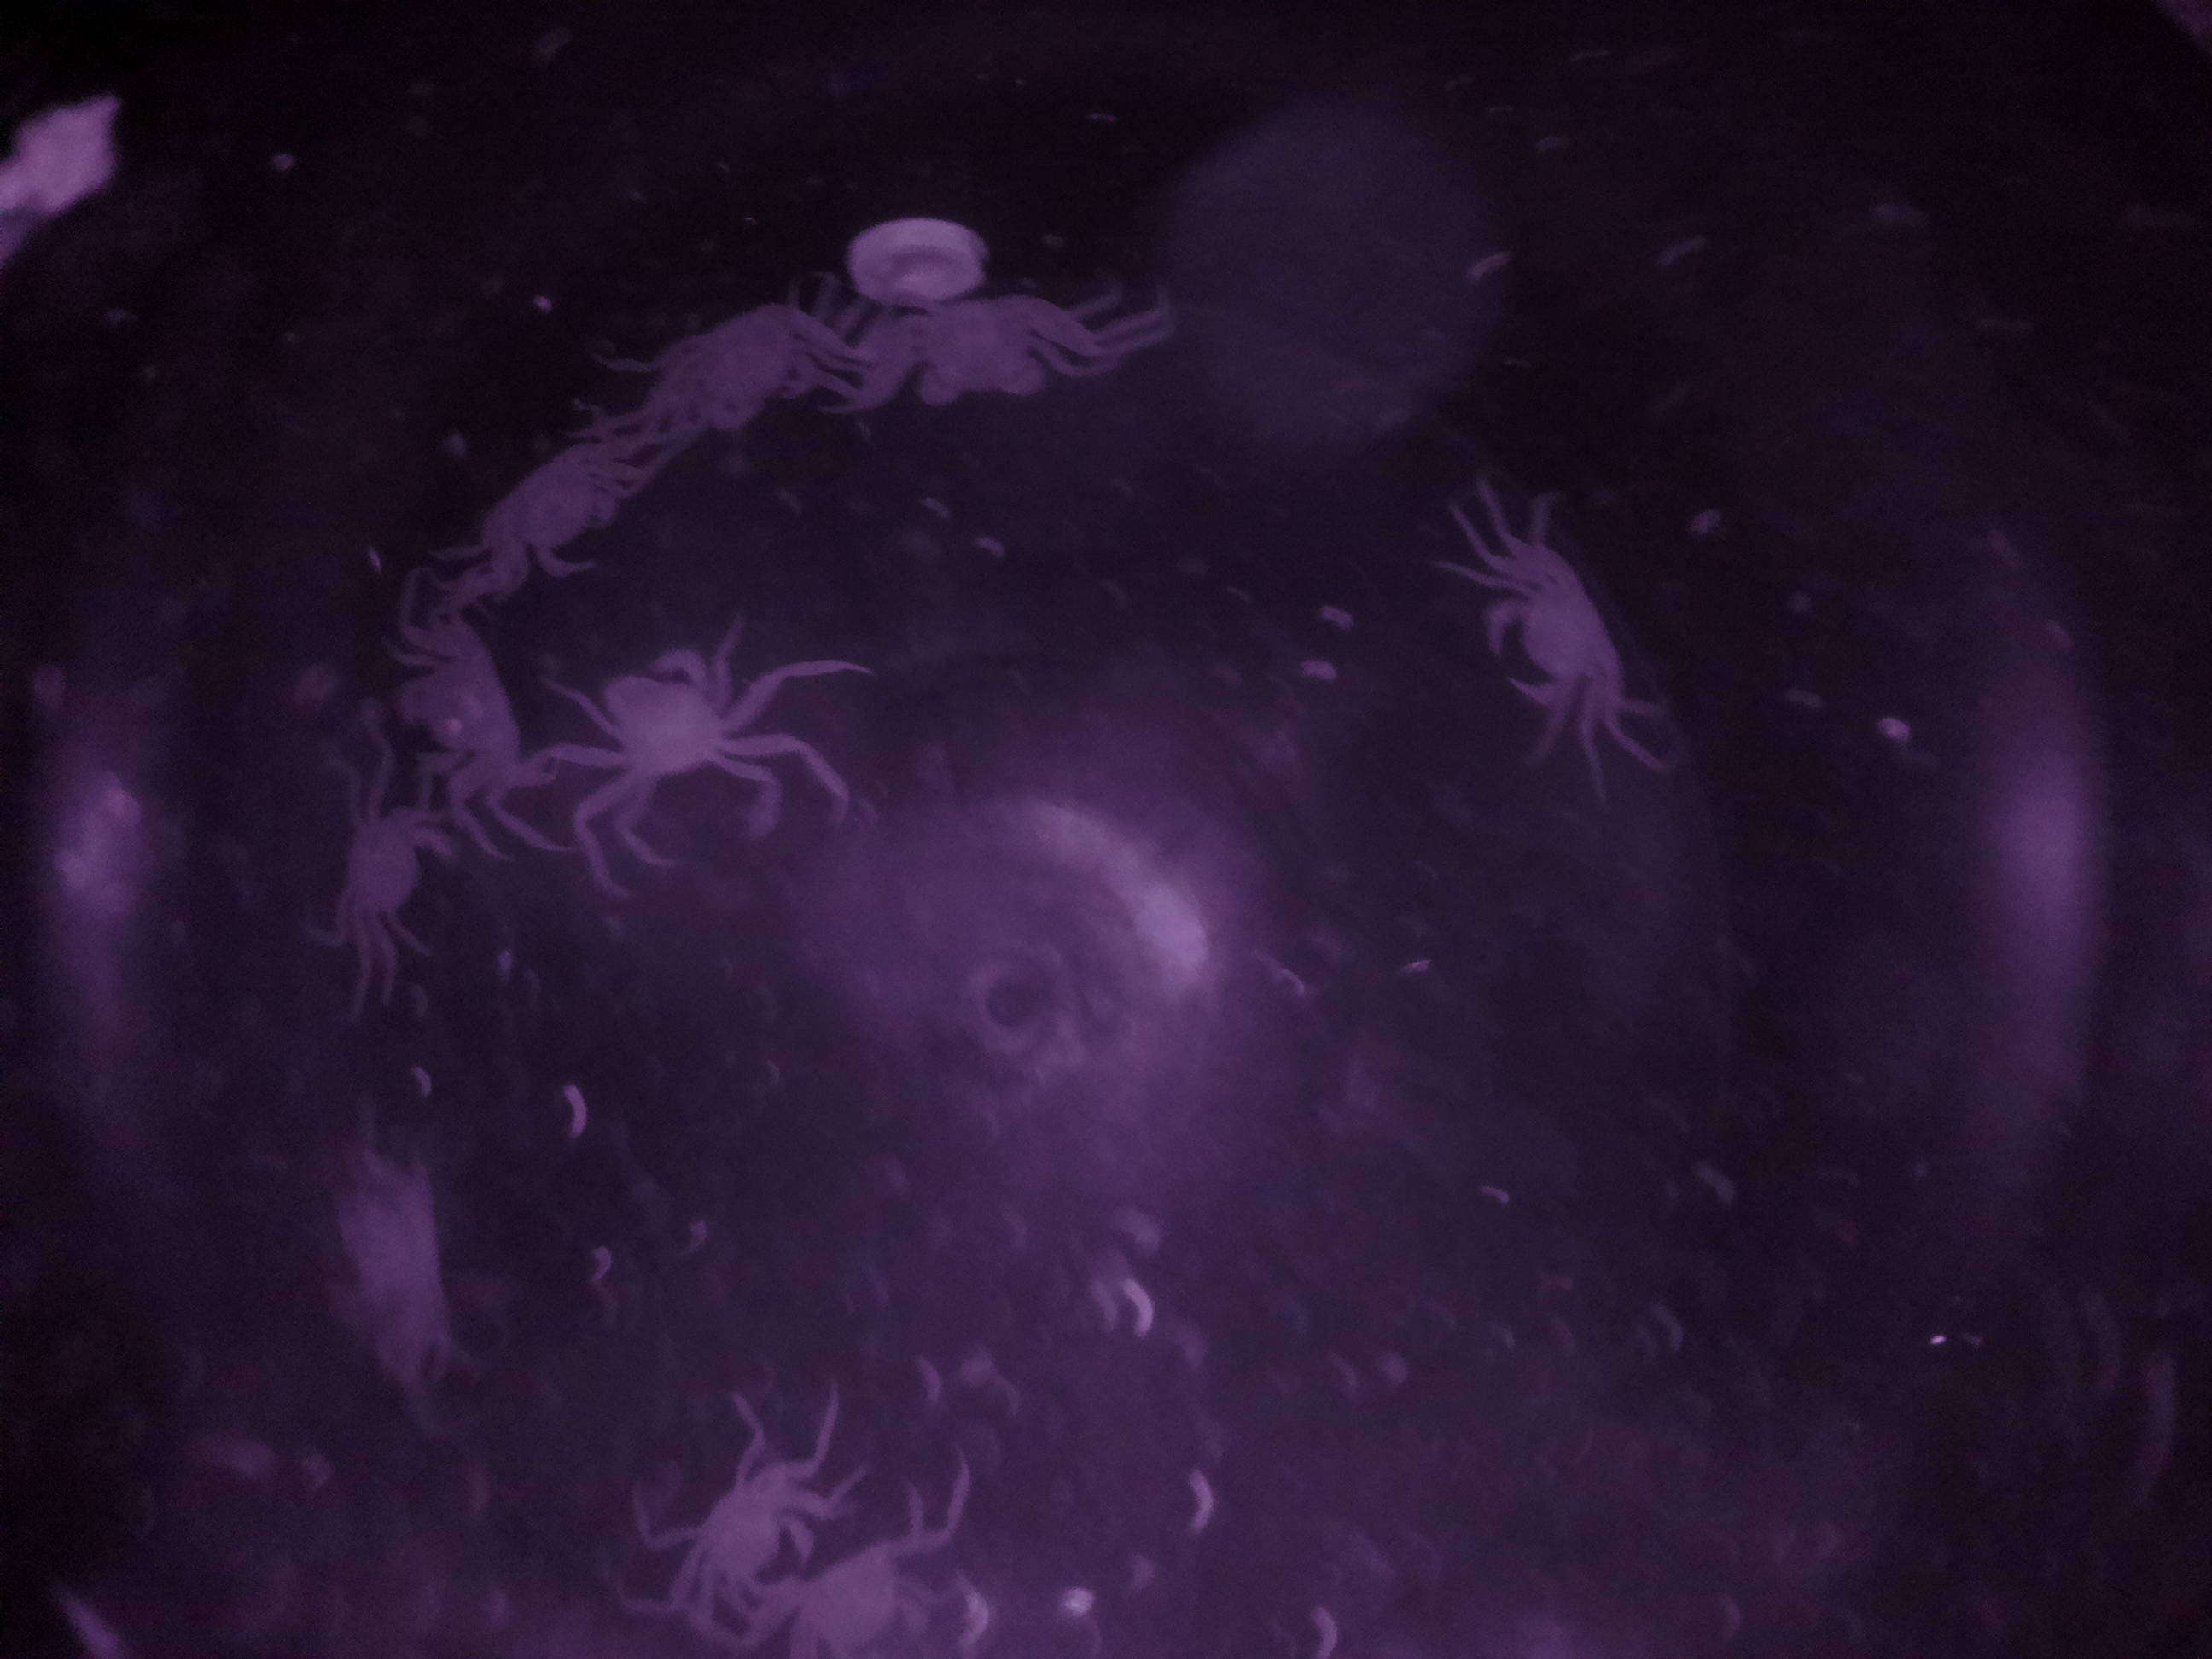Crab: (585, 620, 761, 826), (1470, 556, 1634, 735), (887, 265, 1066, 427), (679, 1436, 834, 1621), (484, 420, 636, 605), (374, 643, 538, 805), (291, 781, 448, 948), (683, 286, 827, 460)
